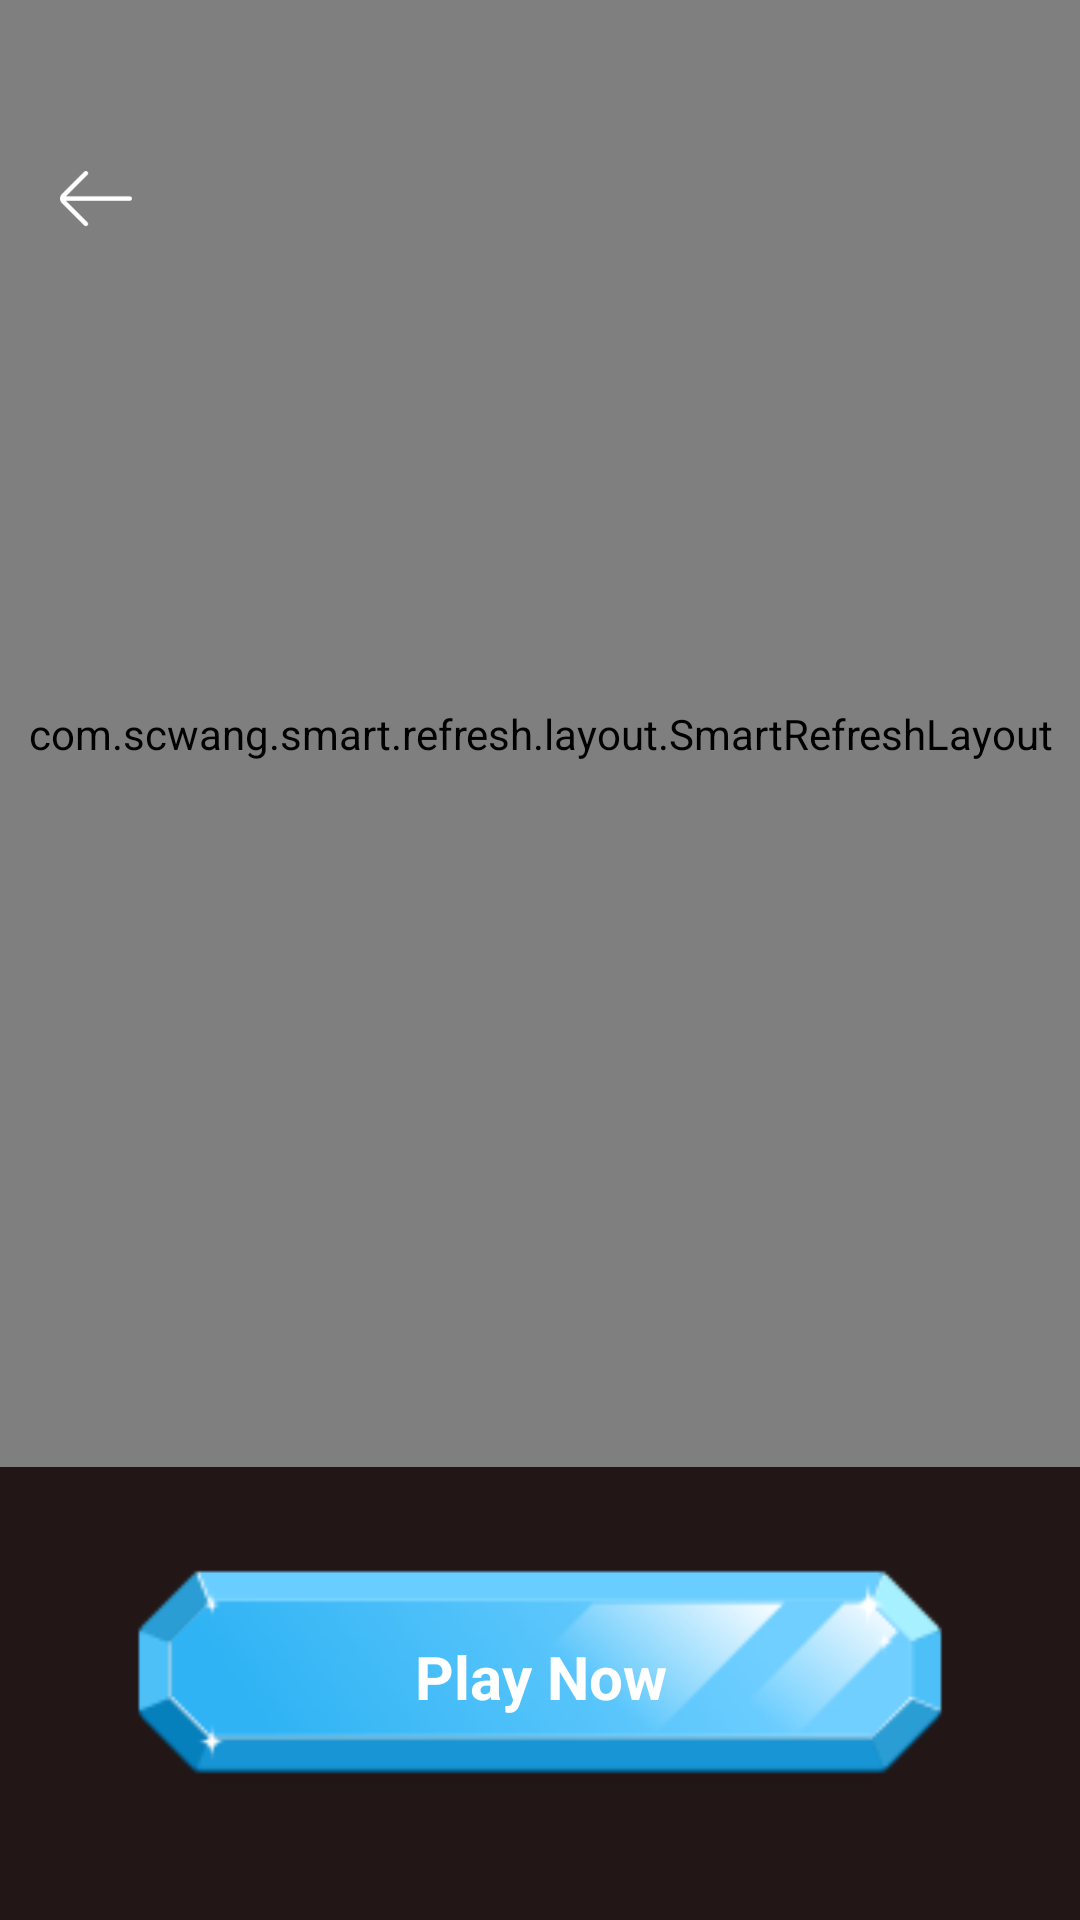

Where to tap for icons on this 1080px×1920px app screen, as (x,y):
back: (96,198)
